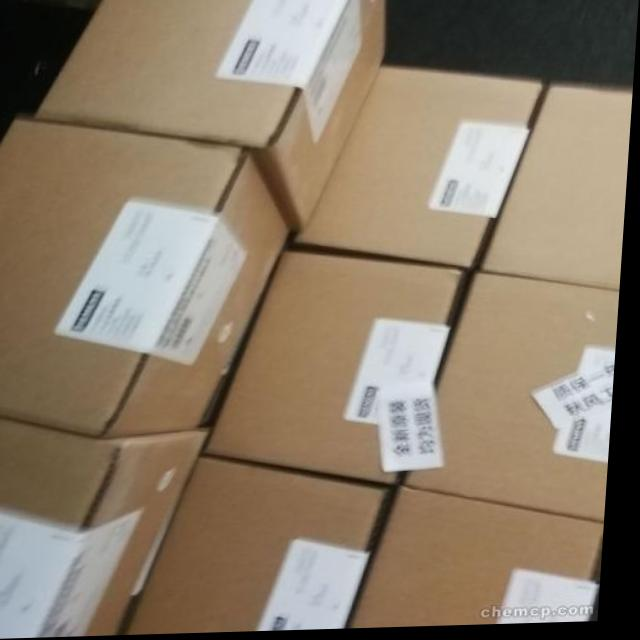box: (0, 117, 294, 438), (35, 0, 386, 238), (208, 252, 465, 491), (410, 271, 622, 525), (294, 67, 548, 272), (133, 454, 398, 634), (0, 414, 213, 637), (358, 487, 609, 630), (482, 86, 633, 294)
